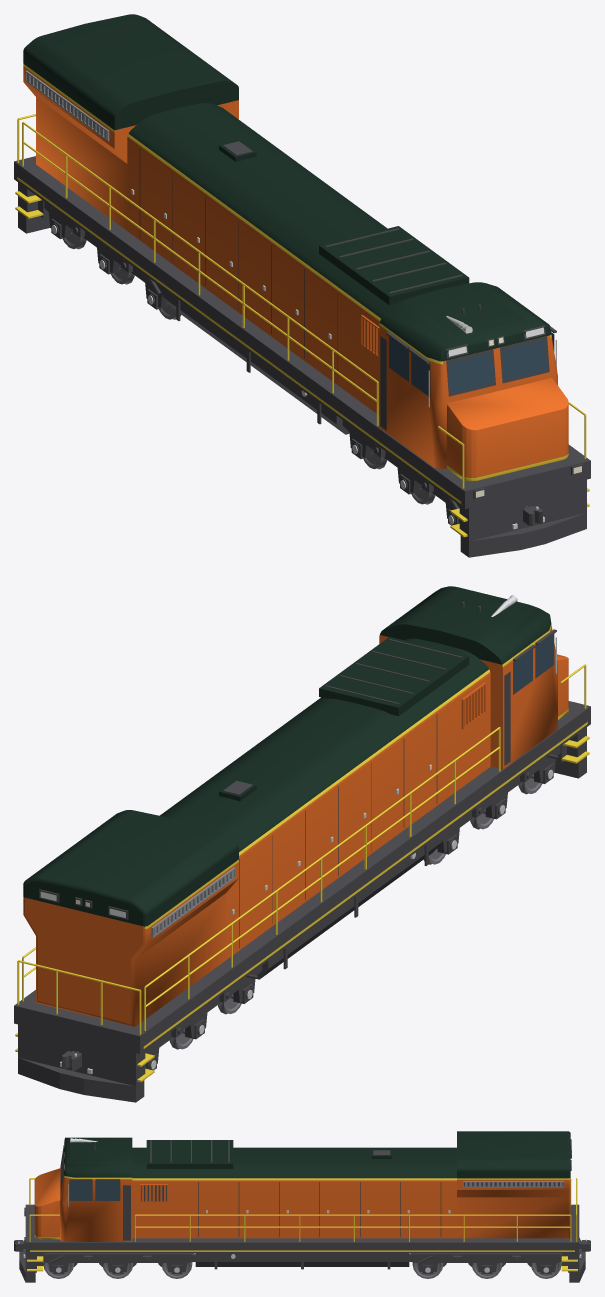
Rendered from 381_close.fbx.
3 renders of one model, top to bottom at view 1: azimuth 30°, elevation 25°; view 2: azimuth 150°, elevation 25°; view 3: azimuth 270°, elevation 25°, orthographic. The views are drawn at different scales.
Visible parts, largest first — view 1: 381_close; view 2: 381_close; view 3: 381_close.
Boxes of the visible parts, box(x1,y1,x2,y2) form: 381_close: box(14, 14, 590, 557); 381_close: box(14, 586, 590, 1102); 381_close: box(14, 1131, 590, 1282).
Bounding box in the file's own units: 3.19 × 4.77 × 20.
